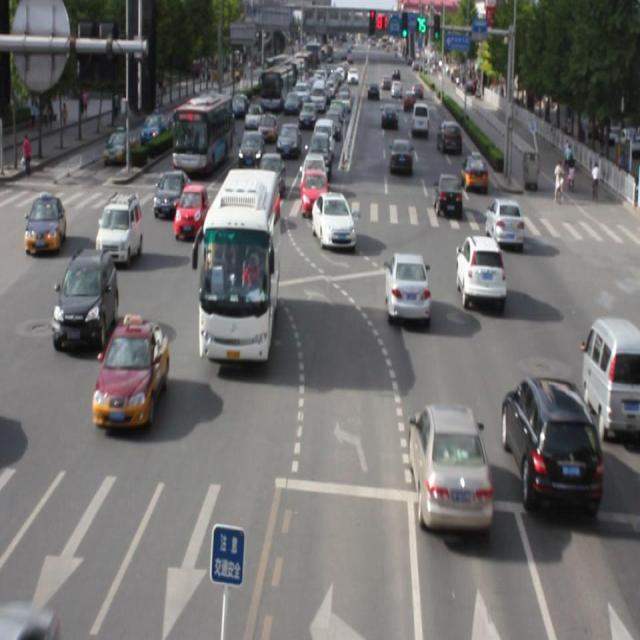car: (502, 374, 600, 516), (409, 402, 490, 530), (93, 315, 168, 429), (52, 247, 116, 349), (455, 234, 503, 306), (97, 191, 142, 265), (384, 250, 429, 320), (311, 196, 355, 253), (174, 182, 207, 240), (155, 171, 188, 220), (486, 198, 521, 244)
truck: (583, 318, 640, 435)
van: (197, 166, 276, 361)
